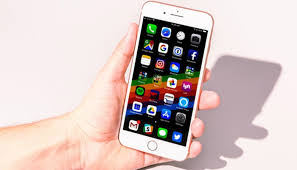iphone: (115, 1, 213, 161)
iphone8: (113, 1, 211, 161)
